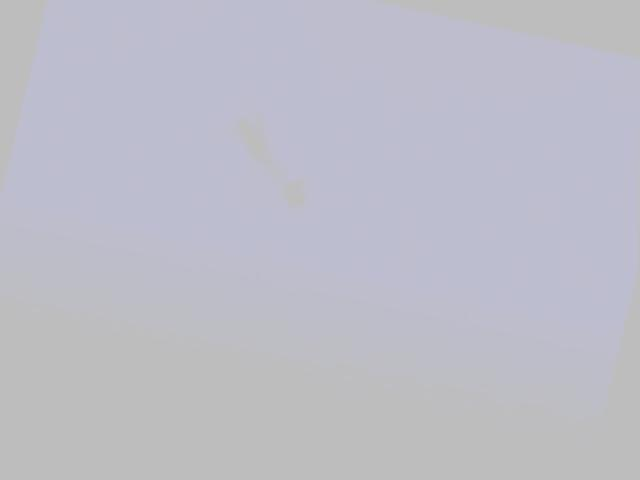iha: (215, 104, 322, 215)
